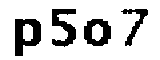5: (49, 3, 76, 54)
7: (120, 5, 148, 54)
o: (82, 15, 112, 49)
p: (10, 15, 45, 57)
